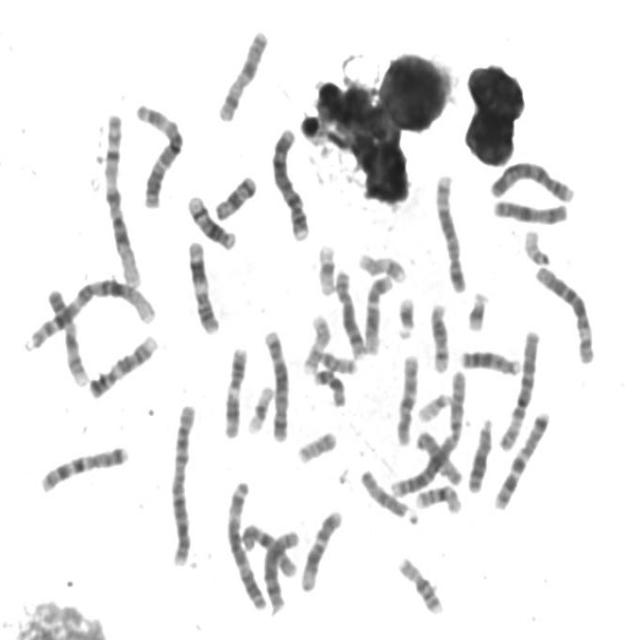A1: (22, 272, 160, 353), (99, 108, 145, 290)
A2: (387, 365, 468, 500), (166, 397, 199, 569)
A3: (131, 96, 187, 210), (222, 475, 268, 612)
B4: (268, 122, 313, 242), (486, 156, 577, 204)
B5: (431, 168, 469, 294), (260, 324, 292, 444)
C10: (237, 518, 299, 579), (392, 348, 421, 447)
C11: (183, 235, 222, 336), (219, 341, 249, 440)
C12: (298, 504, 344, 594), (360, 270, 394, 356)
C6: (532, 262, 598, 366), (495, 324, 542, 454)
C7: (489, 406, 552, 512), (36, 440, 131, 495)
C8: (260, 525, 302, 614), (330, 264, 368, 360)
C9: (85, 329, 159, 400), (42, 283, 90, 388)
D13: (464, 412, 496, 494), (457, 344, 523, 376)
D14: (183, 189, 238, 252), (426, 298, 453, 376)
D15: (356, 464, 420, 526), (412, 424, 466, 487)
E16: (394, 551, 446, 617), (412, 480, 464, 516)
E17: (298, 310, 334, 376), (355, 248, 409, 284)
E18: (212, 170, 258, 222), (310, 364, 348, 409)
F19: (242, 380, 276, 435), (313, 238, 339, 298)
F20: (293, 425, 339, 466), (314, 345, 359, 374)
G21: (462, 286, 491, 334), (393, 292, 417, 342)
G22: (414, 388, 453, 424), (520, 225, 552, 267)
X: (213, 25, 270, 123), (489, 195, 570, 226)
